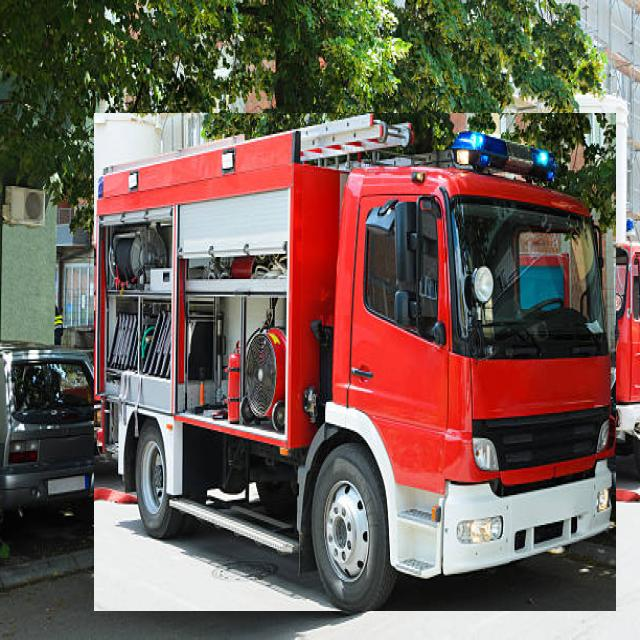emergency: (94, 113, 616, 611)
